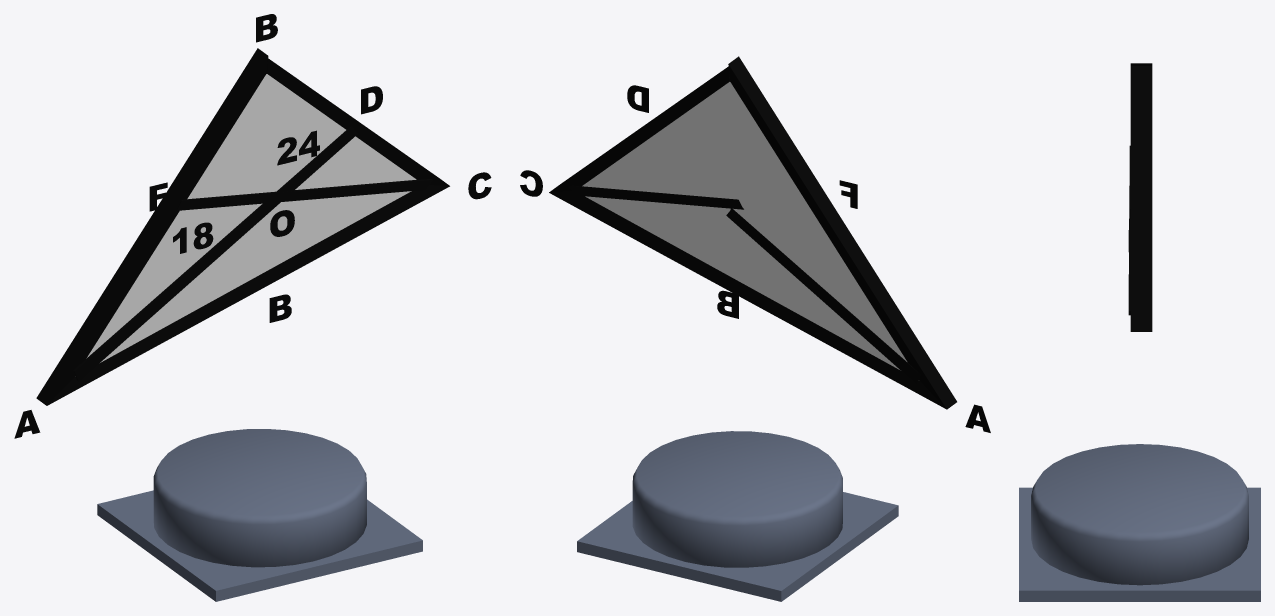
The picture shows the model from 3 angles, left to right: view 1: azimuth 30°, elevation 25°; view 2: azimuth 150°, elevation 25°; view 3: azimuth 270°, elevation 25°; orthographic projection. The views are drawn at different scales.
Visible parts, largest first — view 1: Cube.001, Cylinder, Cube, Cube.002, Cube.003, Text.009; view 2: Cube.001, Cylinder, Cube, Cube.002, Cube.003; view 3: Cylinder, Cube, Cube.001, Cube.003.
Boxes of the visible parts, left/top/right/bottom form: Cube.001: left=36, top=48, right=449, bottom=405; Cylinder: left=153, top=429, right=366, bottom=567; Cube: left=97, top=490, right=422, bottom=601; Cube.002: left=73, top=126, right=357, bottom=381; Cube.003: left=176, top=179, right=432, bottom=210; Text.009: left=277, top=130, right=319, bottom=165; Cube.001: left=549, top=56, right=956, bottom=409; Cylinder: left=632, top=431, right=842, bottom=567; Cube: left=577, top=492, right=898, bottom=601; Cube.002: left=726, top=208, right=920, bottom=384; Cube.003: left=568, top=185, right=743, bottom=209; Cylinder: left=1031, top=444, right=1248, bottom=585; Cube: left=1019, top=487, right=1260, bottom=601; Cube.001: left=1130, top=63, right=1152, bottom=331; Cube.003: left=1128, top=145, right=1130, bottom=315.
Bounding box in the file's own units: 21.1 × 22.05 × 9.09.
